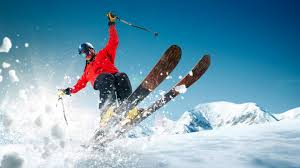skis: (83, 45, 211, 151)
